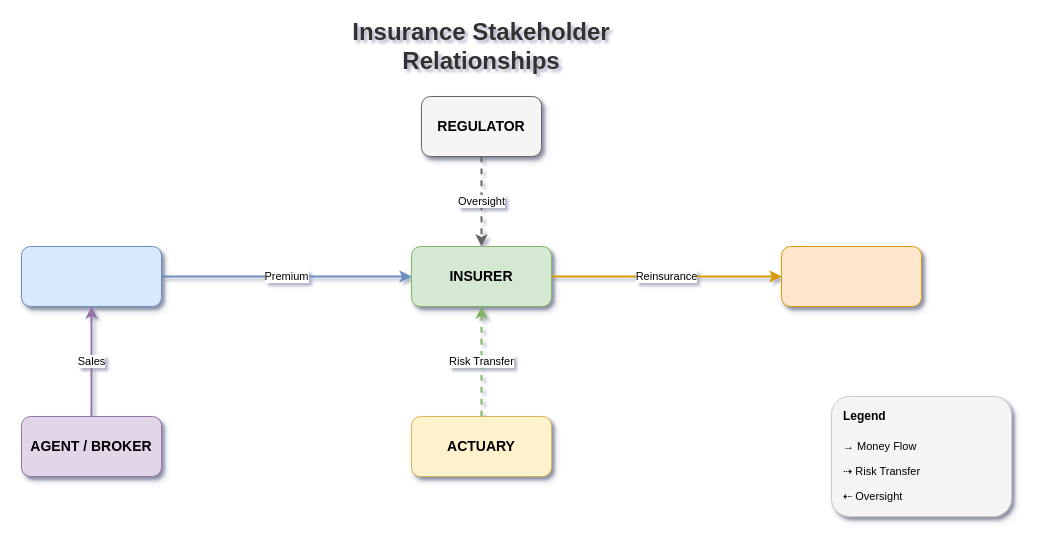
Image size: 1041x547. Some labels were removed from this diagram. The shapes that lost their labels are listed below. From the top down, each one's centre as x and y in pixels, then its label:
At pixel 92 278: "POLICYHOLDER".
At pixel 852 278: "REINSURER".
